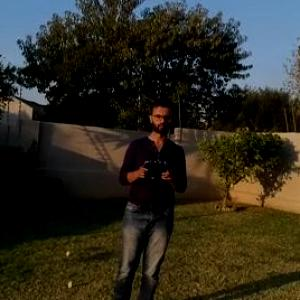follow: (109, 91, 192, 299)
